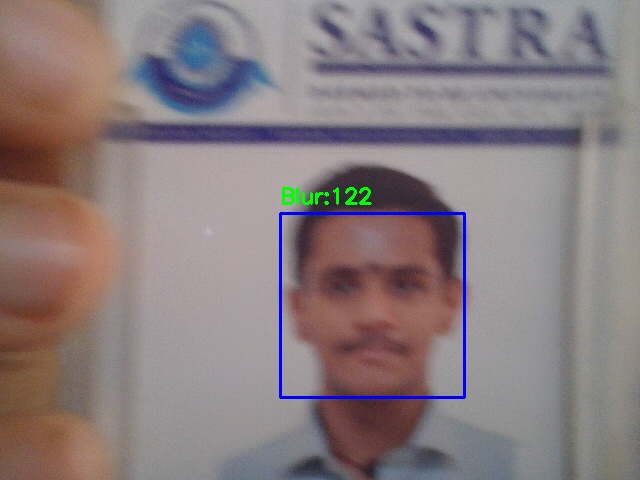fake: (280, 213, 464, 397)
